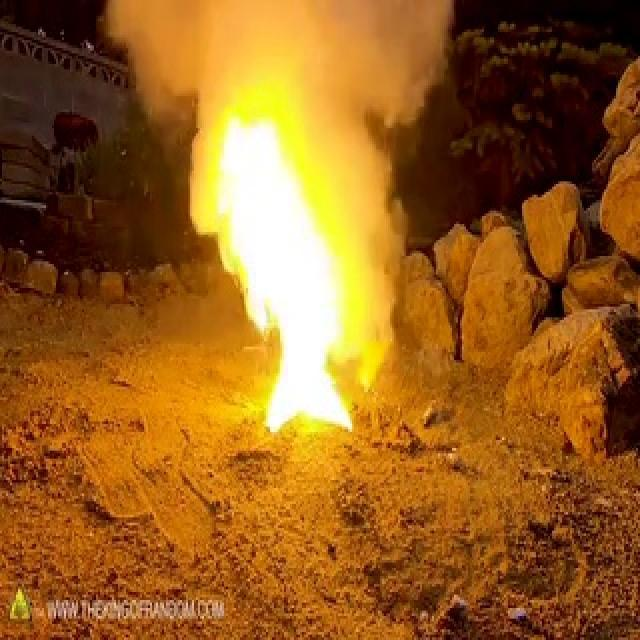Fire: (214, 126, 362, 442)
